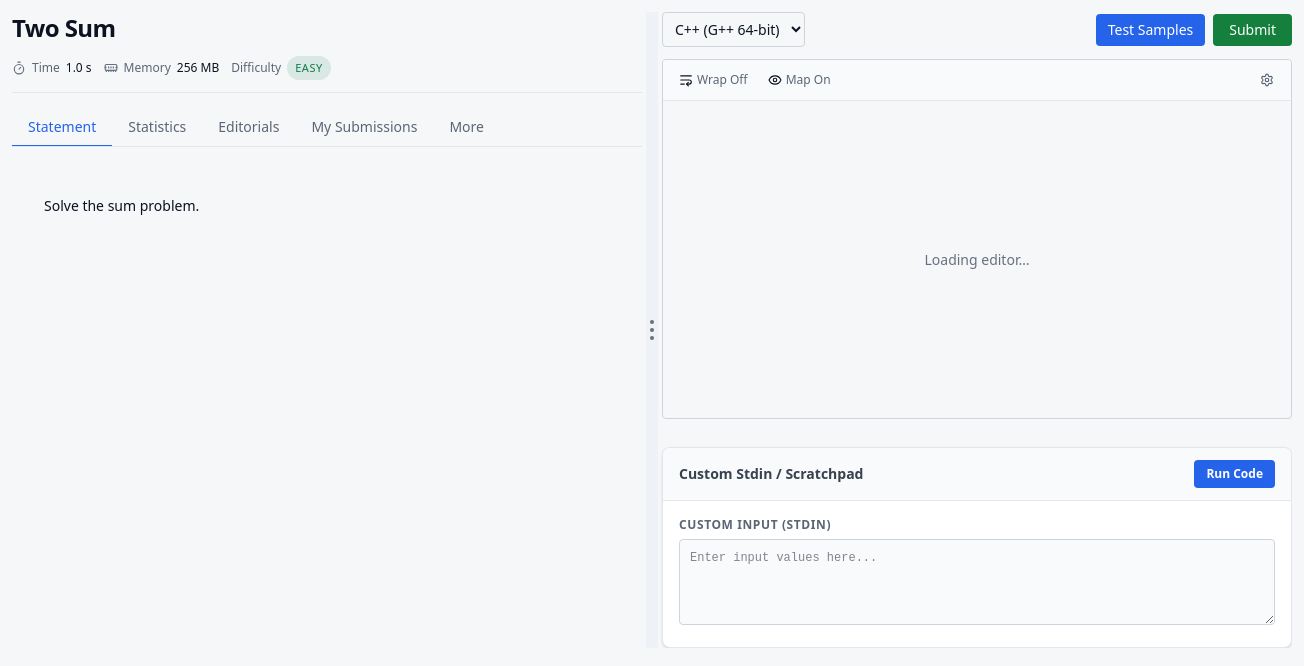
shows the submission id and live verdict immediately after submit
Expected: the heading "Two Sum" is shown, x1=12 y1=12 x2=115 y2=44
Click the button "Submit": (1253, 30) x1=1213 y1=14 x2=1292 y2=46
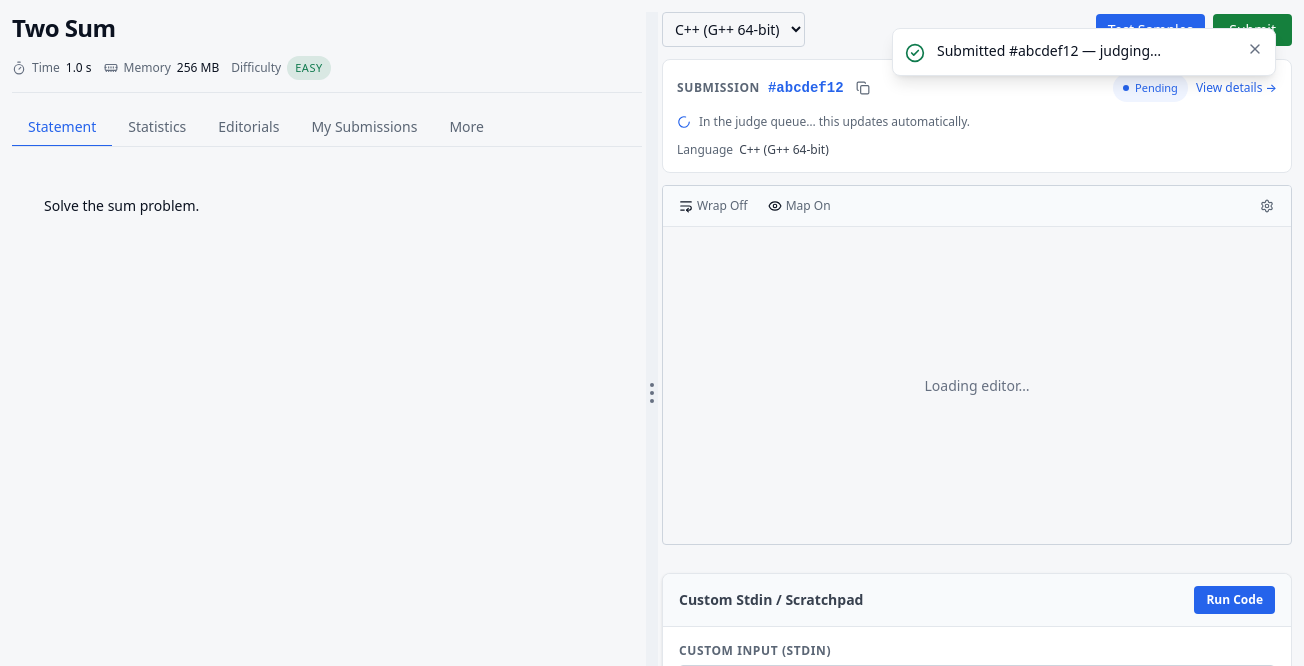
Expected: the text "Pending" is shown, x1=1113 y1=74 x2=1188 y2=102
Expected: the text "In the judge queue… this updates automatically." is shown, x1=699 y1=114 x2=970 y2=130
